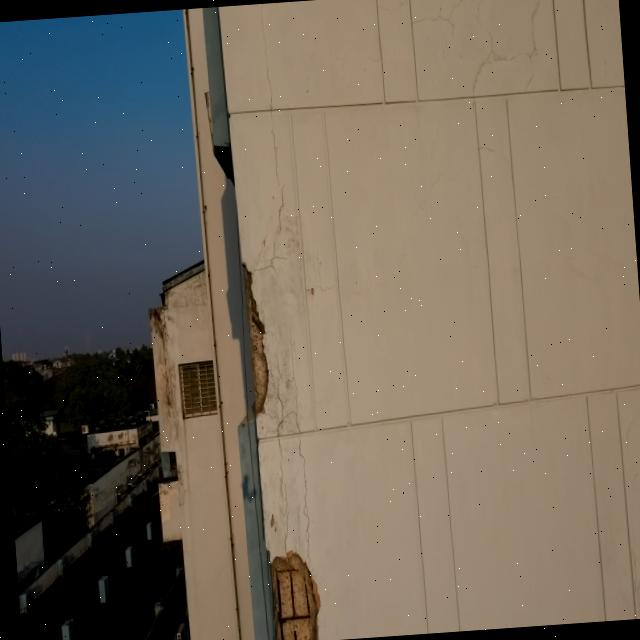Crack: (269, 334, 316, 571), (411, 0, 538, 84), (243, 3, 282, 269), (163, 281, 207, 310), (506, 71, 547, 89)
Spalling: (270, 550, 319, 640), (243, 263, 268, 415)
pollution -moisture induced blackening: (149, 306, 175, 436)
